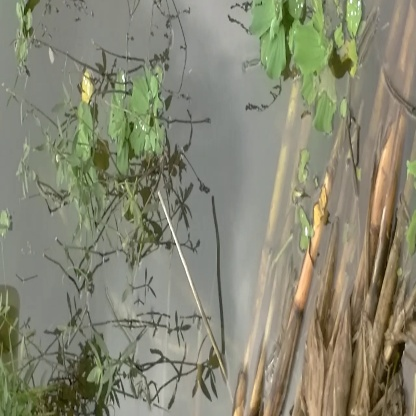branch: (237, 113, 340, 409)
